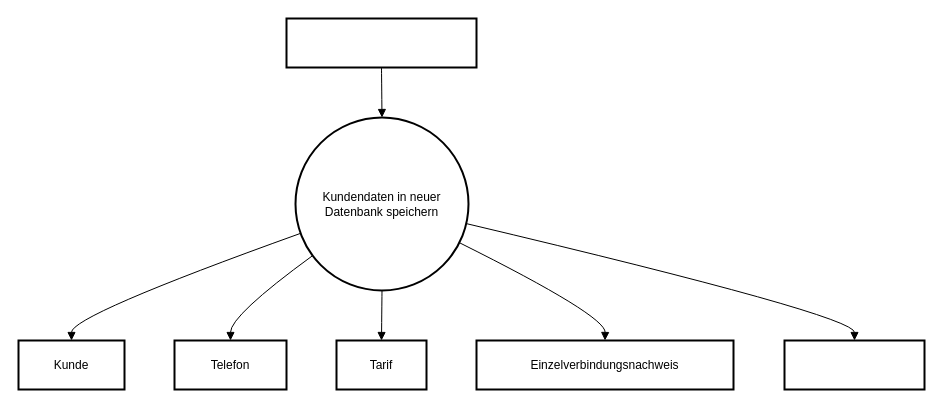
Some shapes in this 942 by 407 pixel diagram are drawn without their labels. The centre of each missing label's shape, as x and y in pixels:
"Die MobilFunk AG" goes at pixel 381 42.
"Geldinstitut" goes at pixel 854 364.
